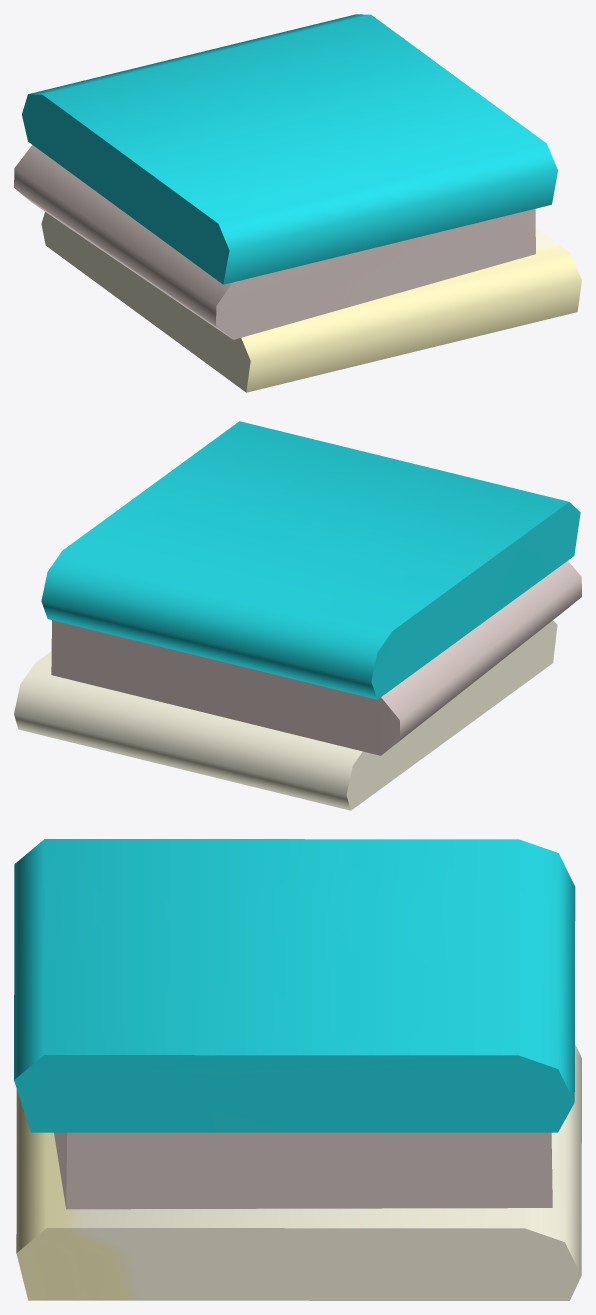
Rendered from shop_044.fbx.
The picture shows the model from 3 angles, top to bottom: view 1: azimuth 30°, elevation 25°; view 2: azimuth 150°, elevation 25°; view 3: azimuth 270°, elevation 25°; orthographic projection. The views are drawn at different scales.
Visible parts, largest first — view 1: shop_044; view 2: shop_044; view 3: shop_044.
Part boxes in pixels (x1=…): shop_044: x1=14, y1=14, x2=581, y2=392; shop_044: x1=14, y1=421, x2=581, y2=810; shop_044: x1=14, y1=839, x2=581, y2=1300.
Bounding box in the file's own units: 41.02 × 40.31 × 17.96.
